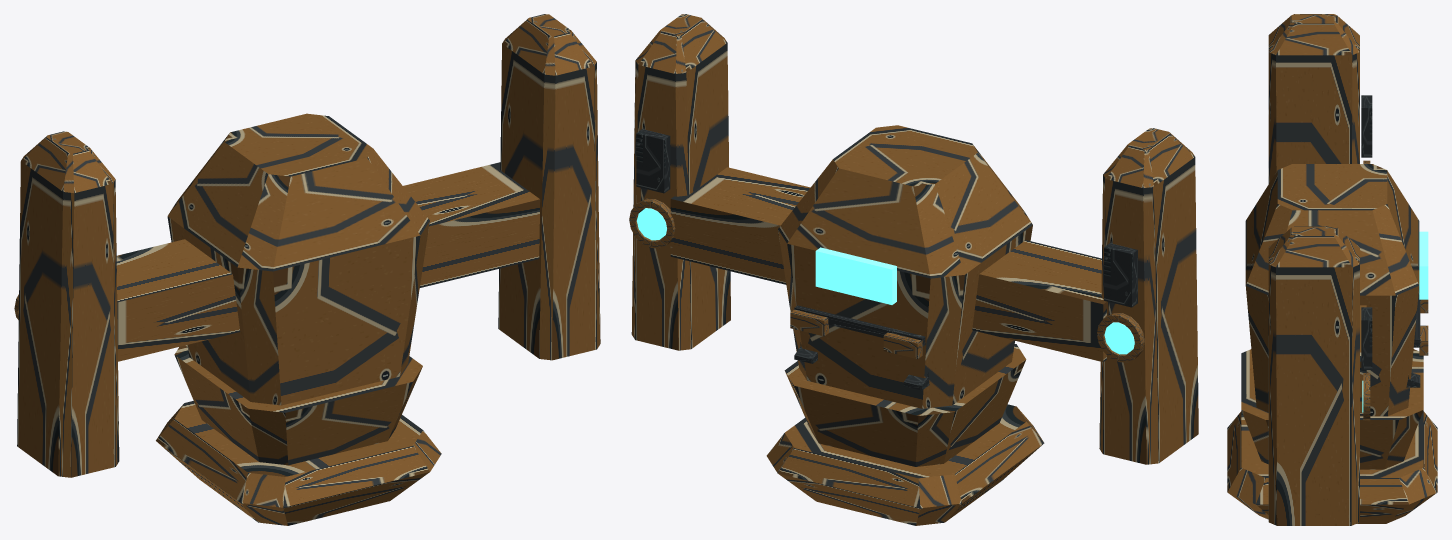
Rendered from ammo_station.glb.
3 renders of one model, left to right at view 1: azimuth 30°, elevation 25°; view 2: azimuth 150°, elevation 25°; view 3: azimuth 270°, elevation 25°, orthographic. The views are drawn at different scales.
Visible parts, largest first — view 1: STProp_ammo_station_Body; view 2: STProp_ammo_station_Body; view 3: STProp_ammo_station_Body.
Part boxes in pixels (x1,y1,x2,y2): STProp_ammo_station_Body: [14, 14, 600, 525]; STProp_ammo_station_Body: [629, 14, 1198, 525]; STProp_ammo_station_Body: [1227, 14, 1437, 525].
Size of the model in its own units: 1.24 by 0.93 by 0.46.
Materials: 5 (4 with a texture image).
